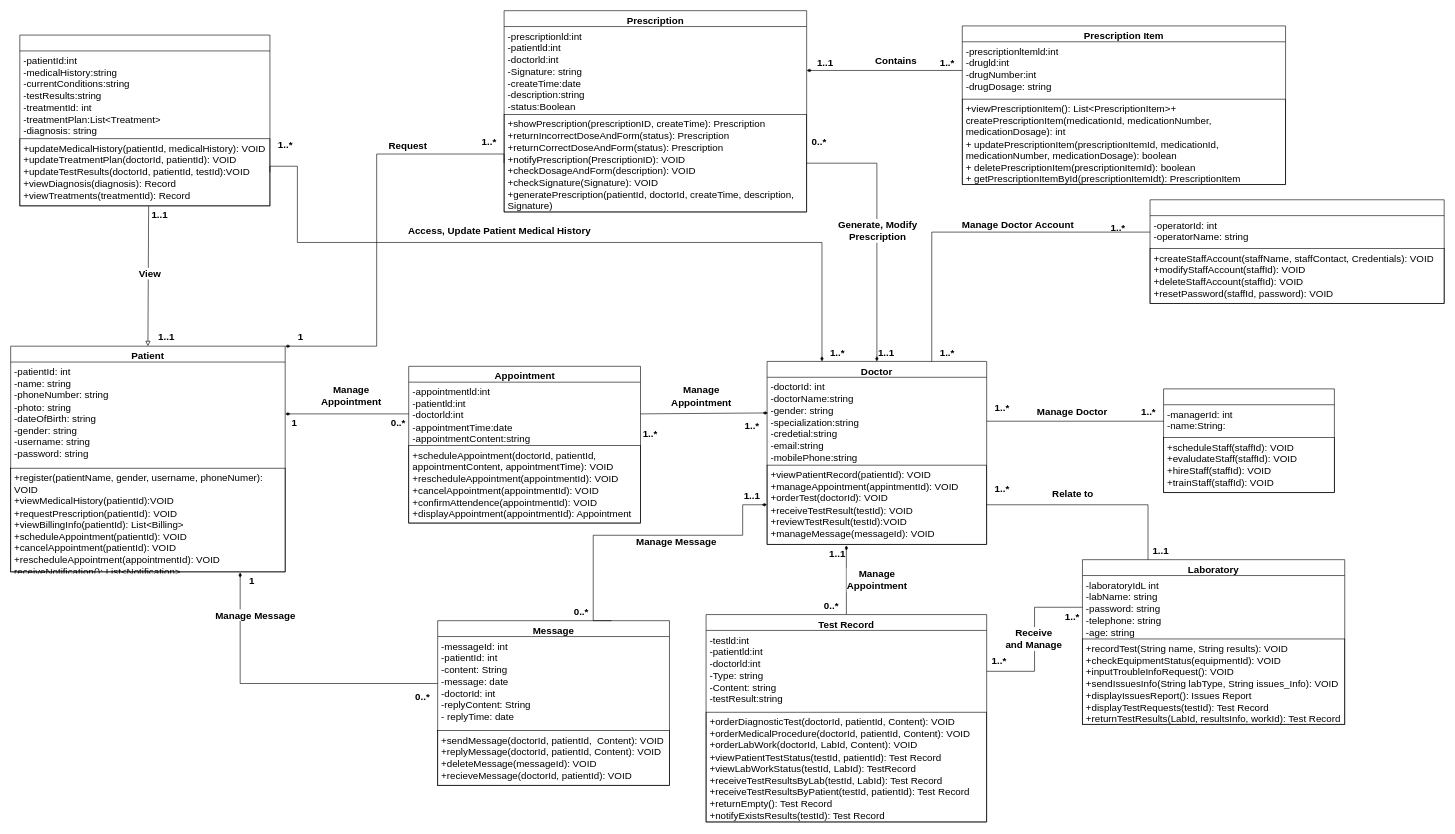
This 1455x834 diagram has some shape labels left out. Each missing label, with the box of its shape:
Hospital Manager: (1163, 388, 1334, 493)
Medical Records: (19, 34, 270, 206)
System Operator: (1149, 199, 1444, 303)
